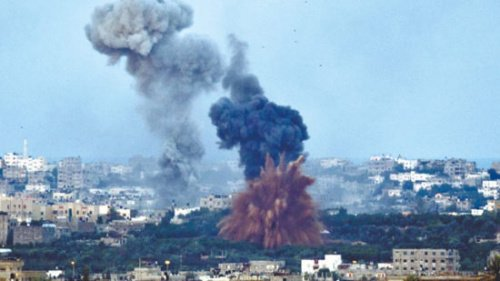smoke: (96, 11, 210, 209), (218, 64, 324, 246)
